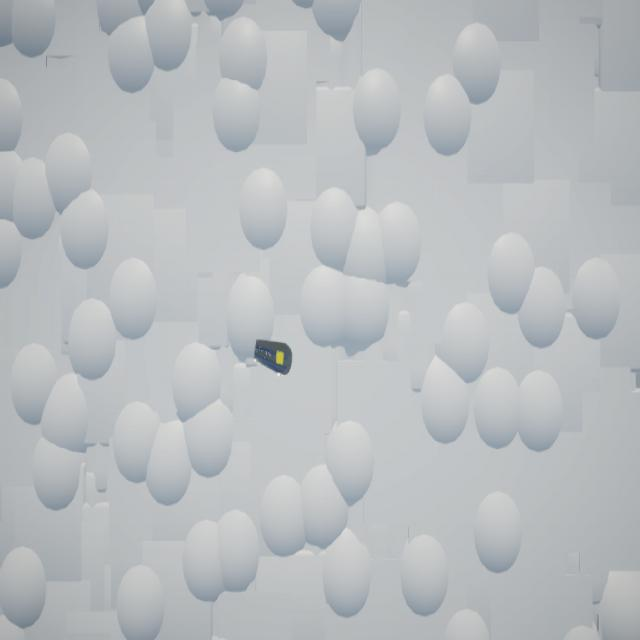handle_folk: (255, 340, 293, 377)
